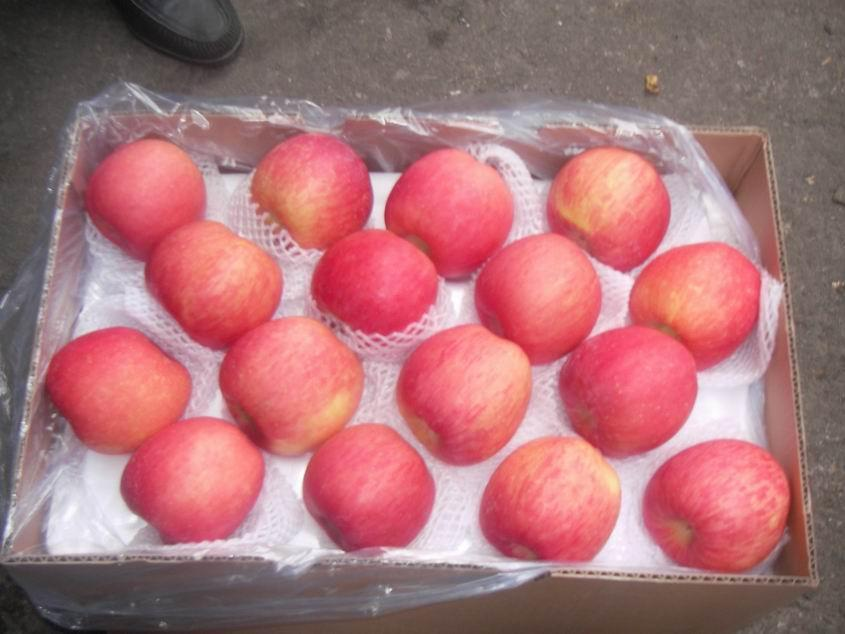apple: (219, 317, 367, 463), (642, 438, 793, 573), (397, 325, 534, 465), (477, 434, 622, 565), (47, 327, 194, 455), (122, 414, 268, 540), (628, 241, 764, 375), (381, 143, 515, 279), (561, 328, 699, 459), (144, 218, 283, 347), (478, 230, 603, 363), (303, 425, 434, 551), (545, 143, 672, 270), (87, 136, 207, 259), (309, 228, 438, 338), (252, 131, 371, 247)
